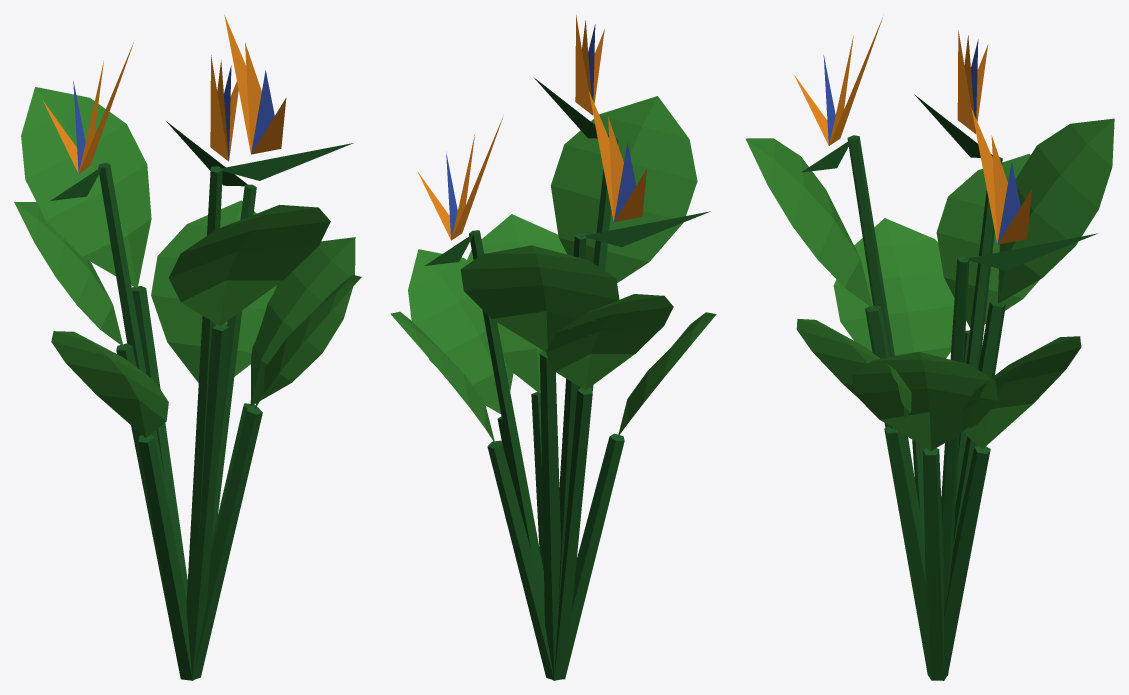
The model's file is bird_of_paradise.glb.
3 views of the same model, side by side, from view 1: azimuth 30°, elevation 25°; view 2: azimuth 150°, elevation 25°; view 3: azimuth 270°, elevation 25° (orthographic). The views are drawn at different scales.
Visible parts, largest first — view 1: bird_of_paradise; view 2: bird_of_paradise; view 3: bird_of_paradise.
Part boxes in pixels (box(x1,y1,x2,y2)): bird_of_paradise: box(14, 15, 361, 680); bird_of_paradise: box(390, 15, 716, 680); bird_of_paradise: box(745, 17, 1114, 680).
Size of the model in its own units: 0.8049 by 1.7 by 0.8537.
